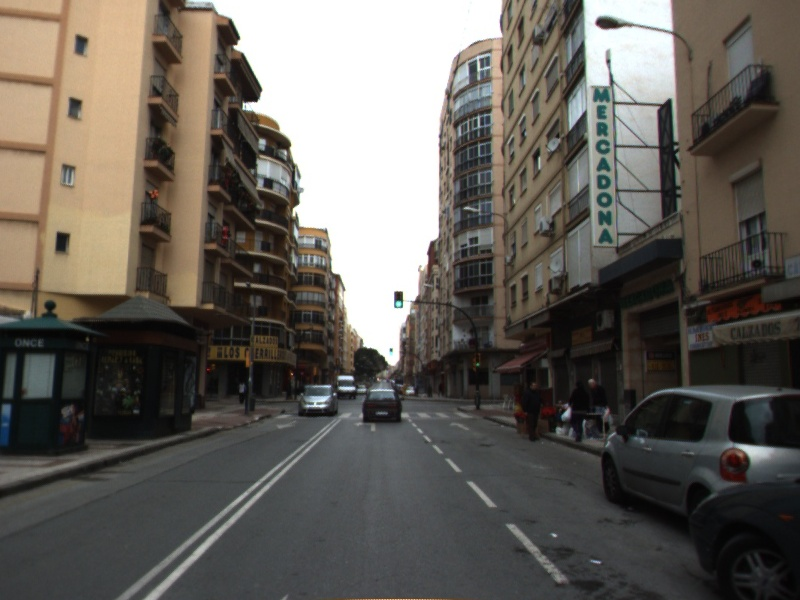LEFT: (352, 420, 377, 432)
STRAIGHT: (448, 420, 471, 431)
